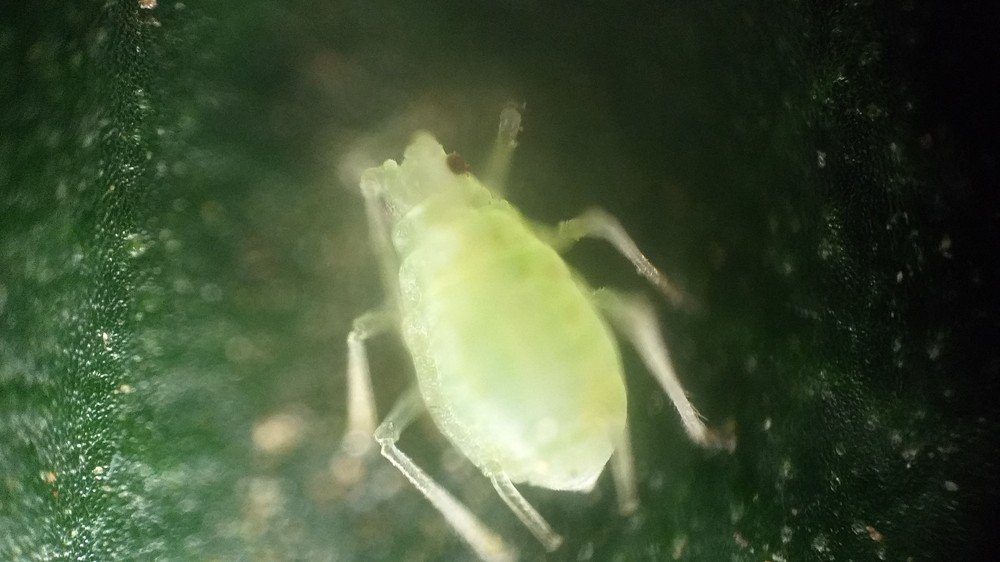Pulgon: (289, 82, 744, 560)
